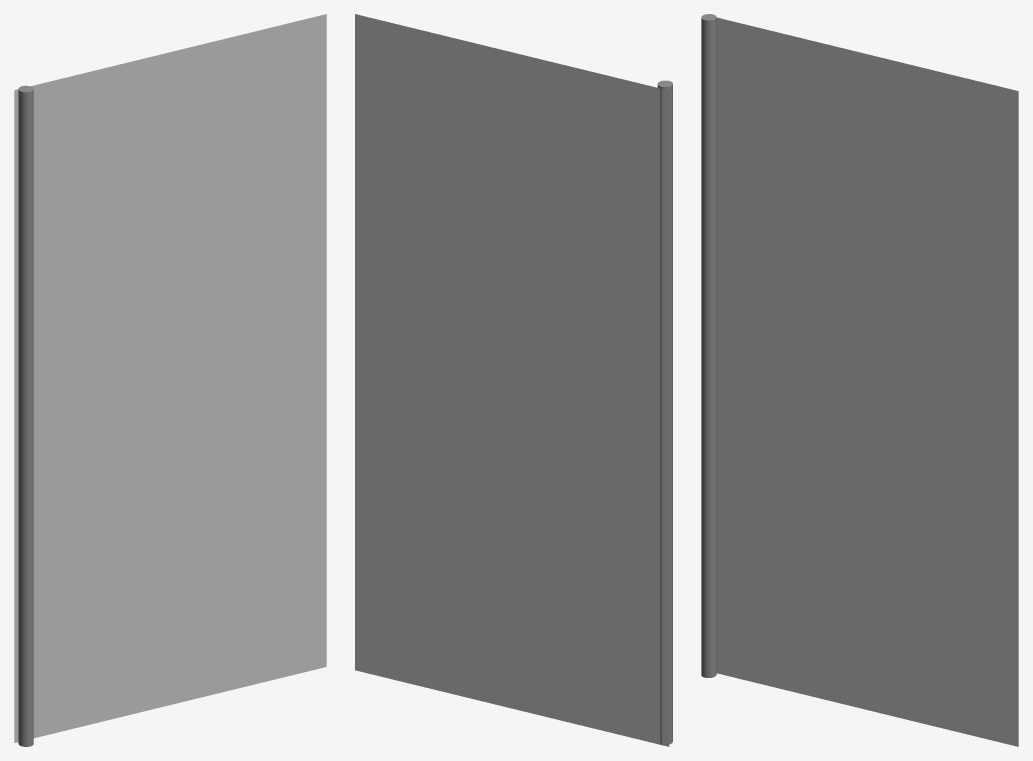
The model's file is Net_Test.fbx.
3 renders of one model, left to right at view 1: azimuth 30°, elevation 25°; view 2: azimuth 150°, elevation 25°; view 3: azimuth 330°, elevation 25°, orthographic.
Parts seen in each view (by area): view 1: Sidenet_LeftRight, Sidenet_bar2; view 2: Sidenet_LeftRight, Sidenet_bar2; view 3: Sidenet_LeftRight, Sidenet_bar2.
Boxes of the visible parts, x1,y1,x2,y2 form: Sidenet_LeftRight: (14,14,326,742); Sidenet_bar2: (18,85,33,746); Sidenet_LeftRight: (355,14,669,746); Sidenet_bar2: (657,80,672,744); Sidenet_LeftRight: (716,17,1018,746); Sidenet_bar2: (701,14,716,677).
Size of the model in its own units: 0.6075 by 1.22 by 0.0266.
2 materials, 1 textured.
